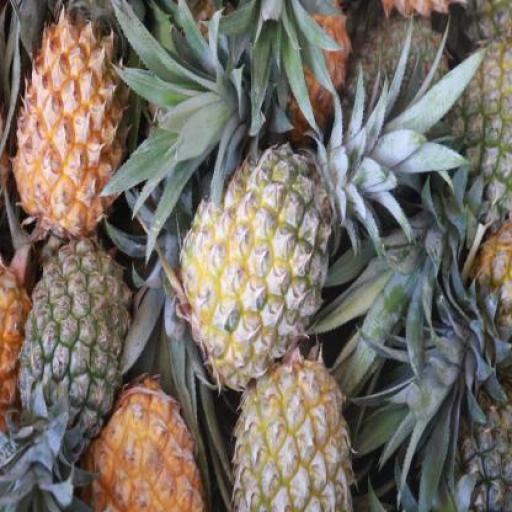------------------------------: (182, 147, 335, 395), (232, 346, 354, 512)
Pineapple - v8 v1: (14, 11, 126, 239), (84, 370, 204, 511)
